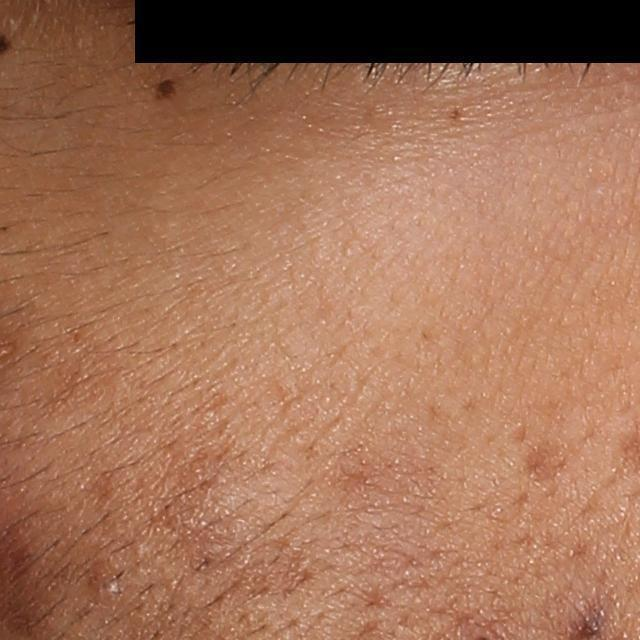comedo: (93, 576, 122, 599)
nevus: (152, 77, 179, 103), (449, 105, 464, 121)
